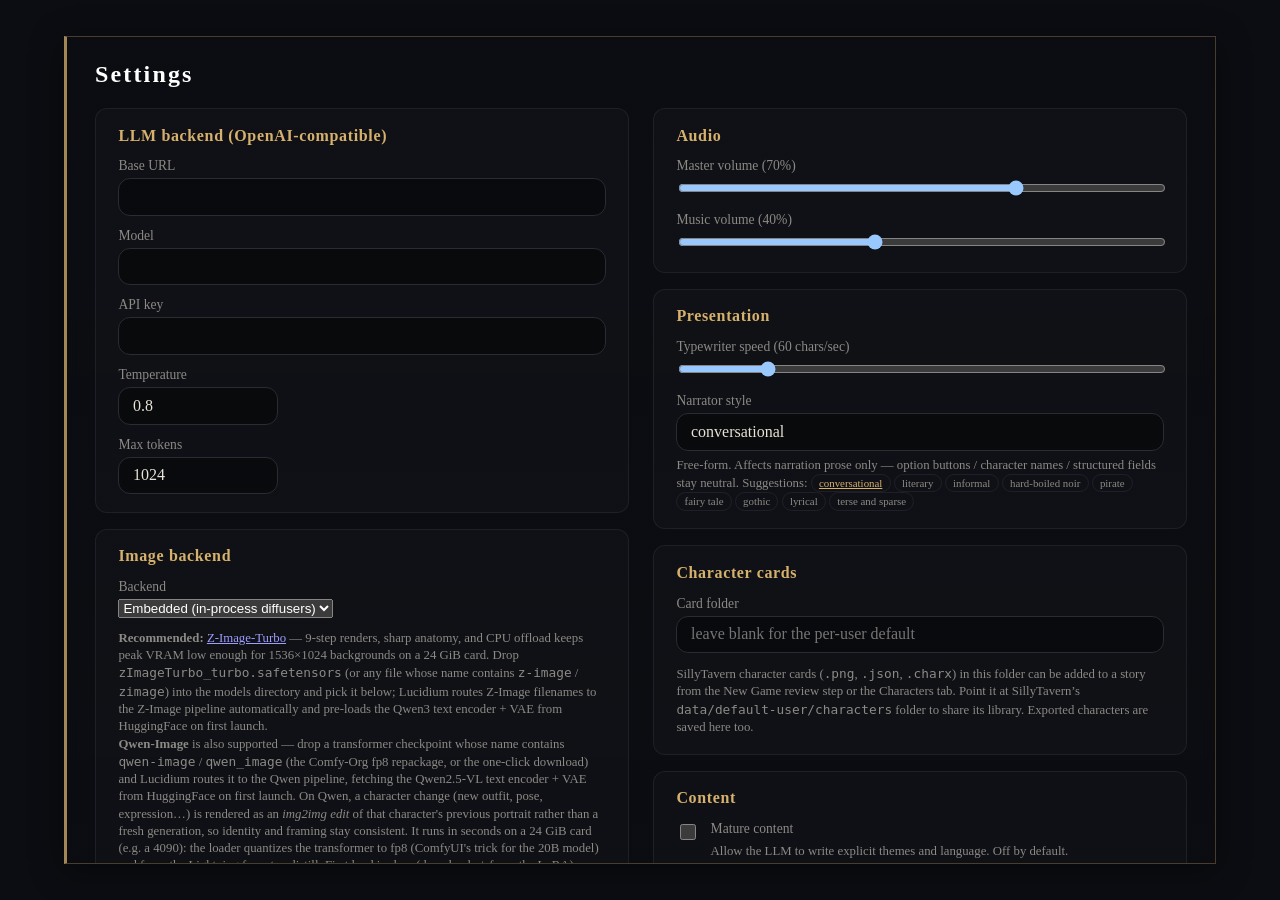
it: Narrator style setting › clicking a suggestion pill updates the input
This screenshot has width=1280, height=900.
Click the button "pirate".
click(1112, 483)  # box [1092,474,1133,492]
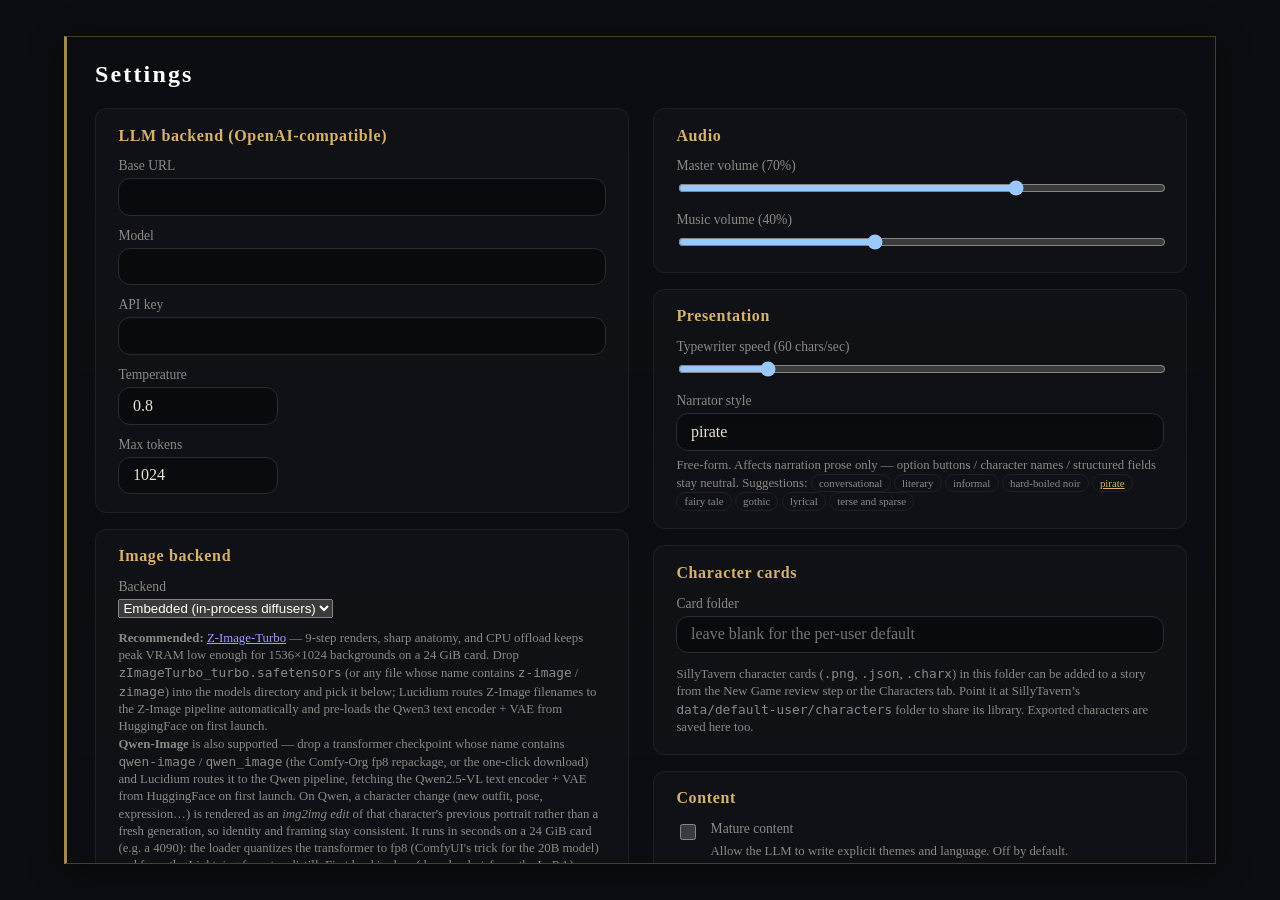
Check: the field with placeholder "conversational" holds "pirate", box [676,413,1164,451]
